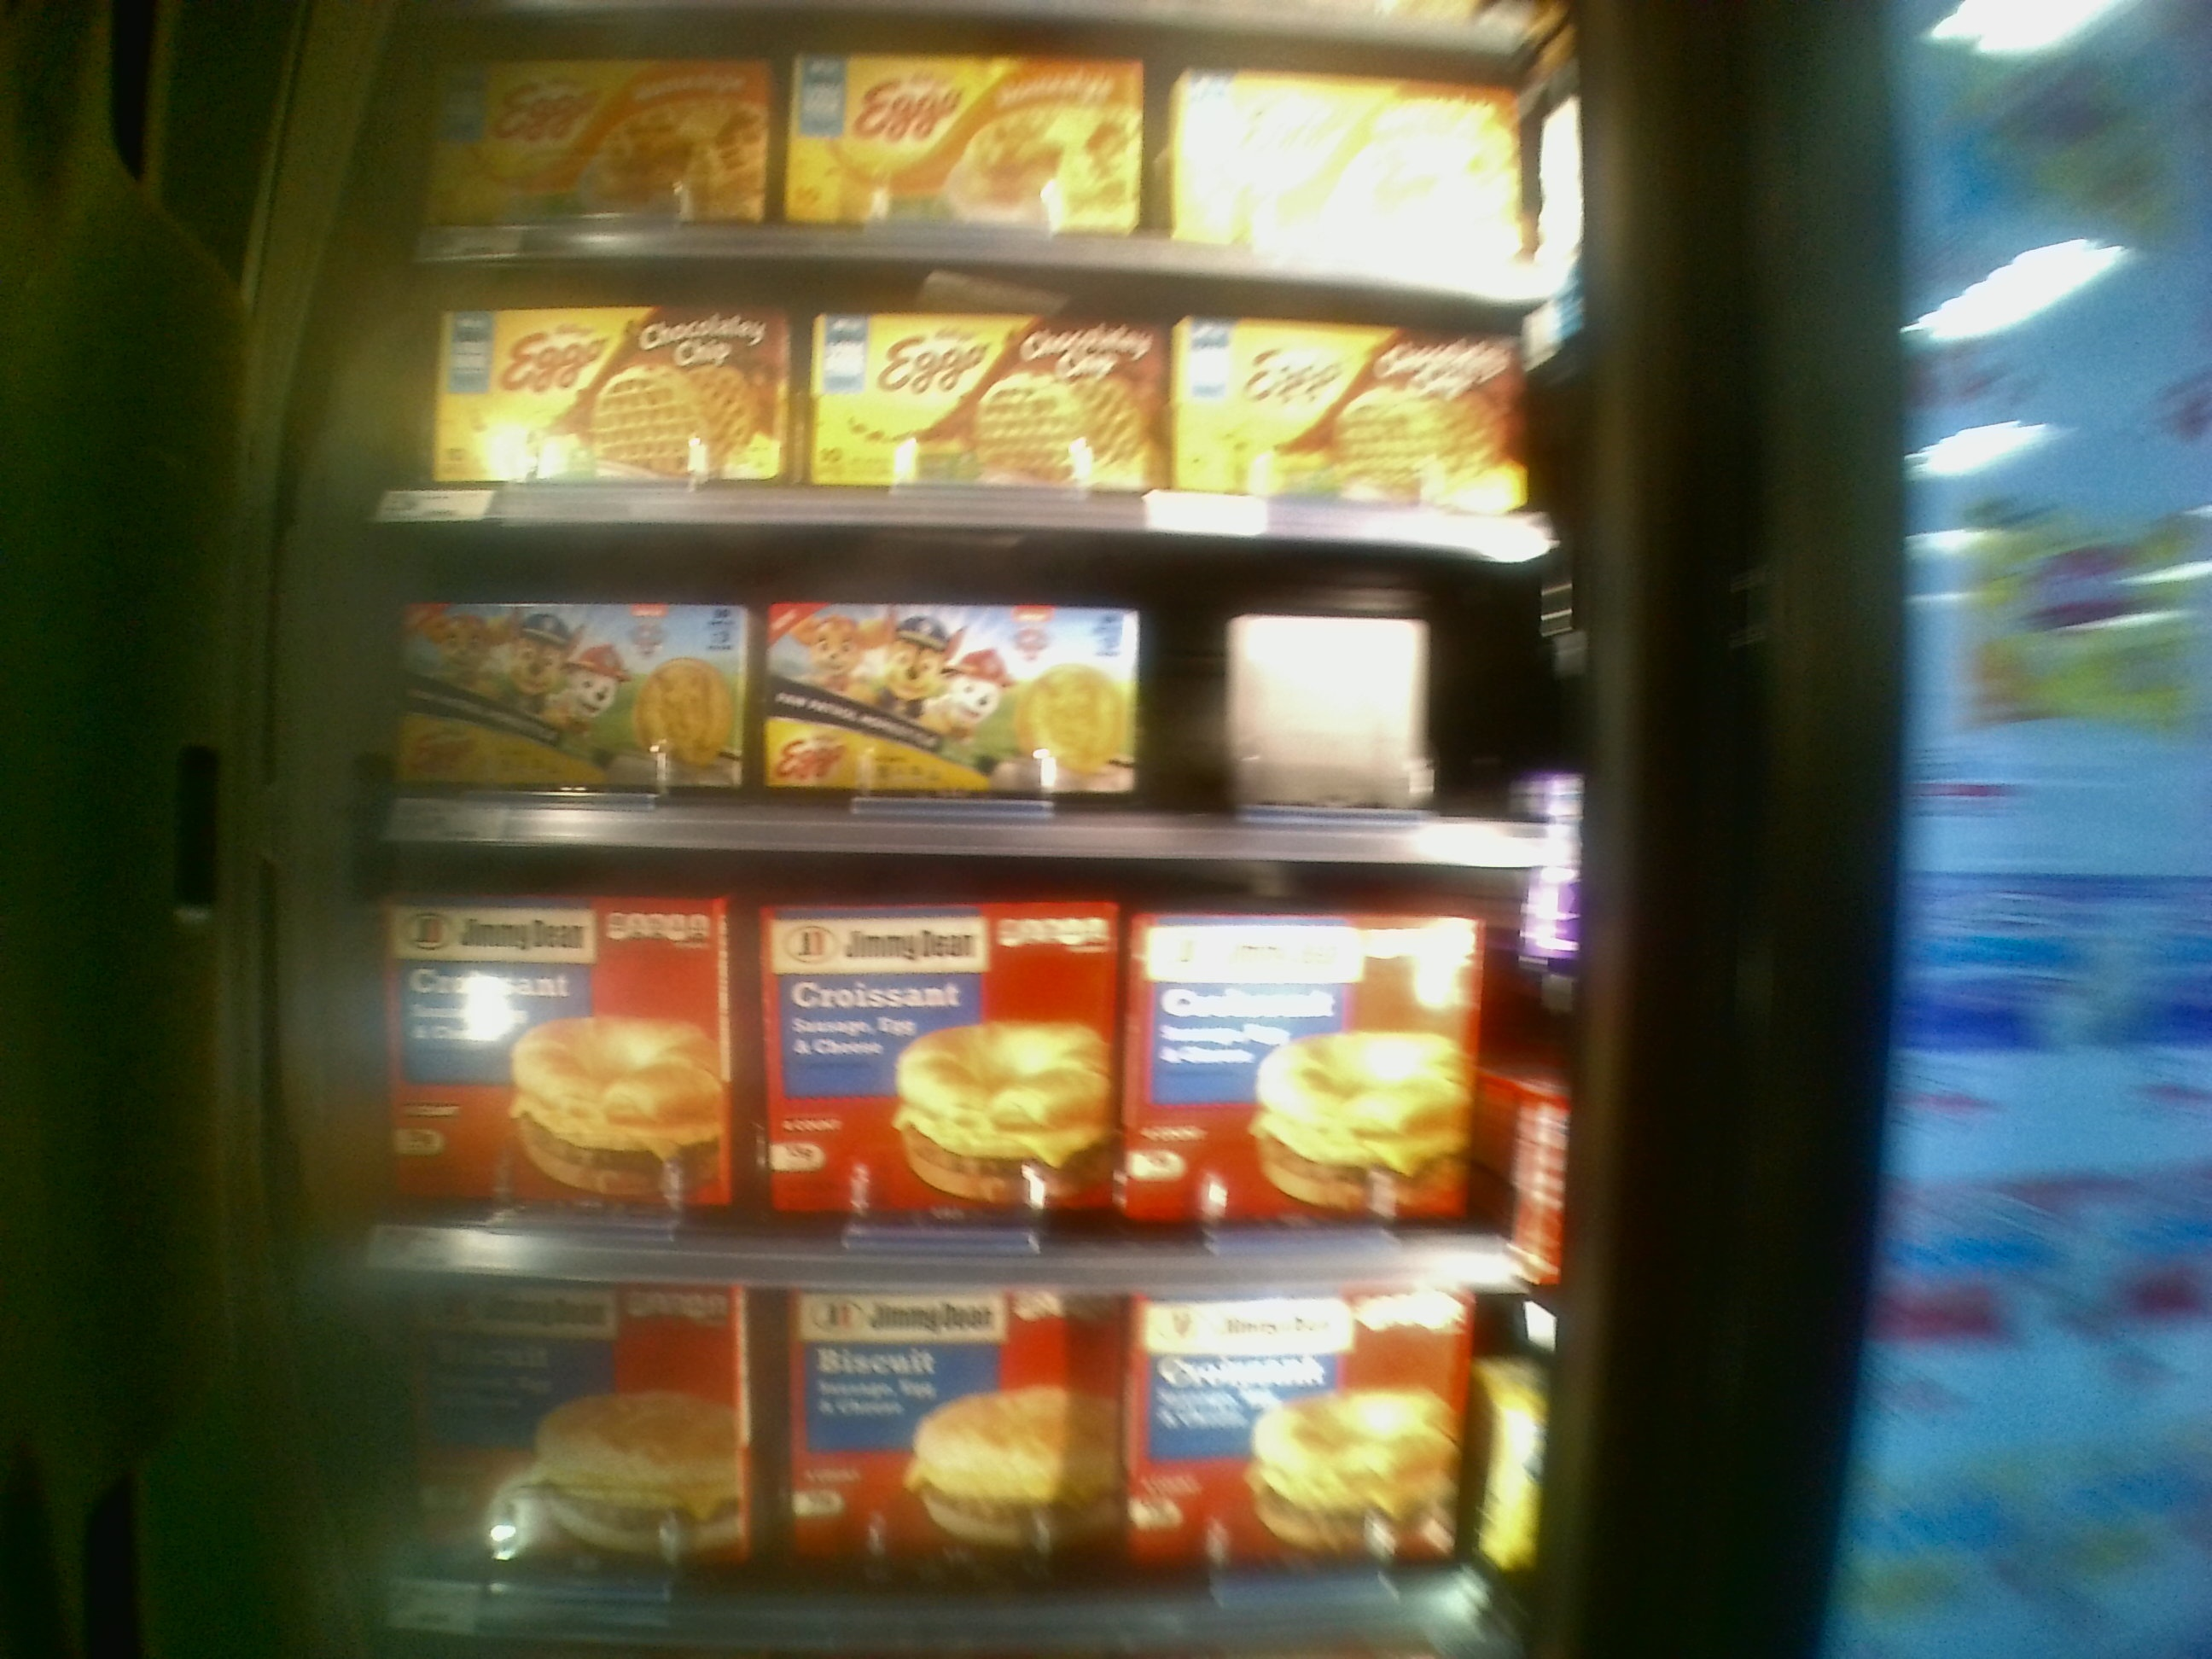shelf: (376, 838, 1548, 1291), (371, 518, 1595, 854), (381, 251, 1536, 545)
